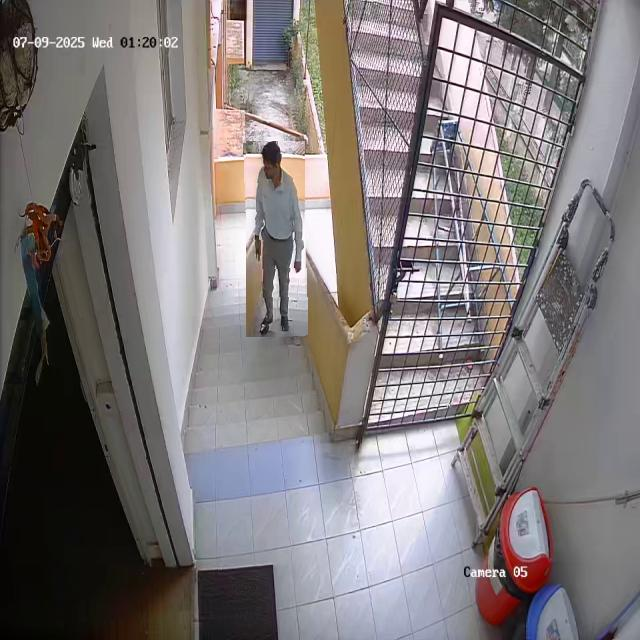person: (244, 141, 307, 338)
